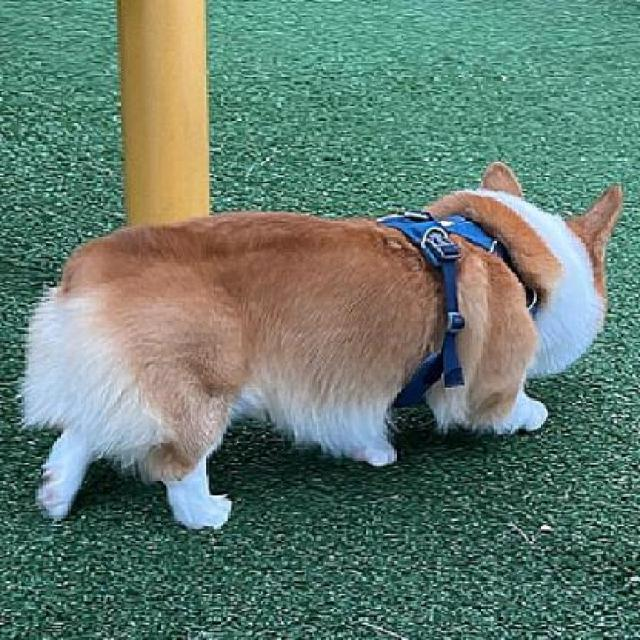Dog: (10, 160, 628, 535)
